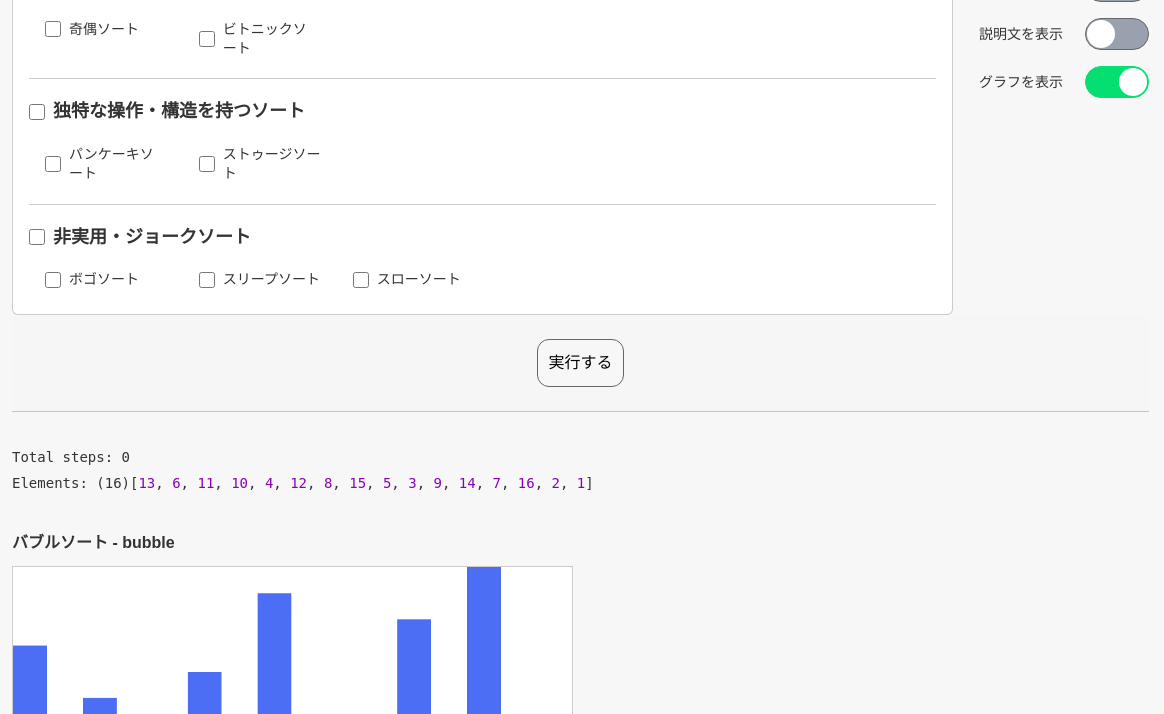
Test: SortVisualizerContent › 終了後にもう一度実行すると「処理中...」ではなく「処理を強制終了する」になる
(page scrolled)
Click the button "実行する": (580, 362) [538,338,624,386]
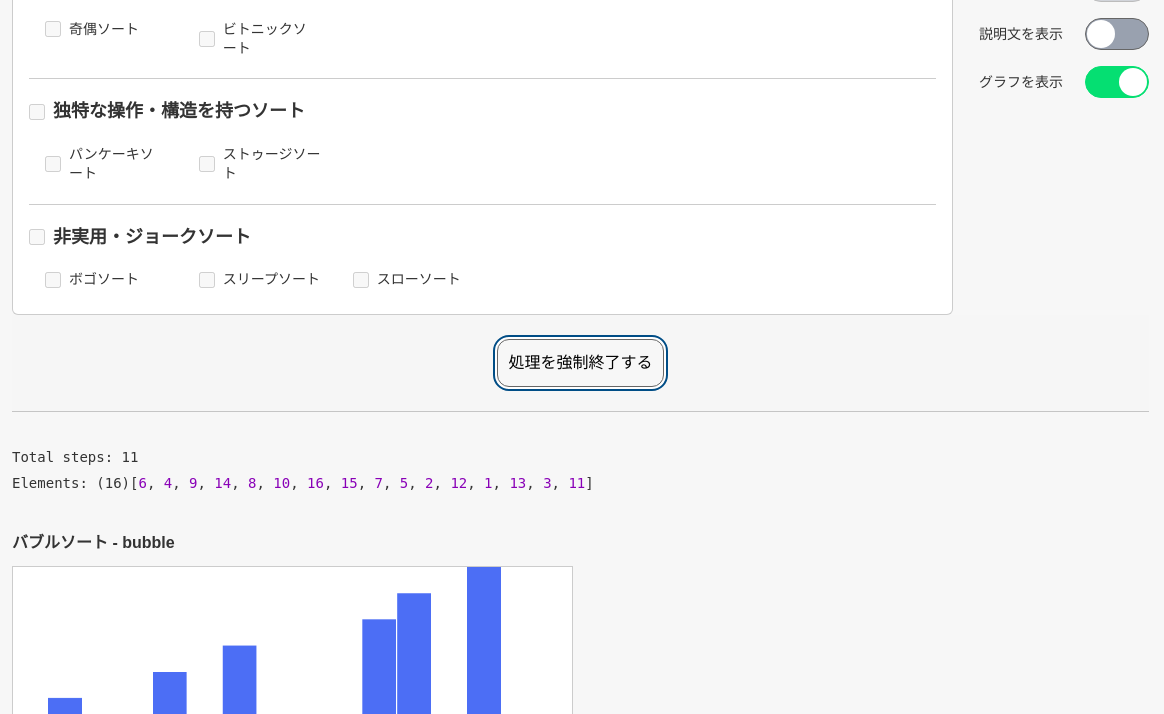
Click the button "処理を強制終了する": (580, 362) [498,338,664,386]
Wait 1000 ms
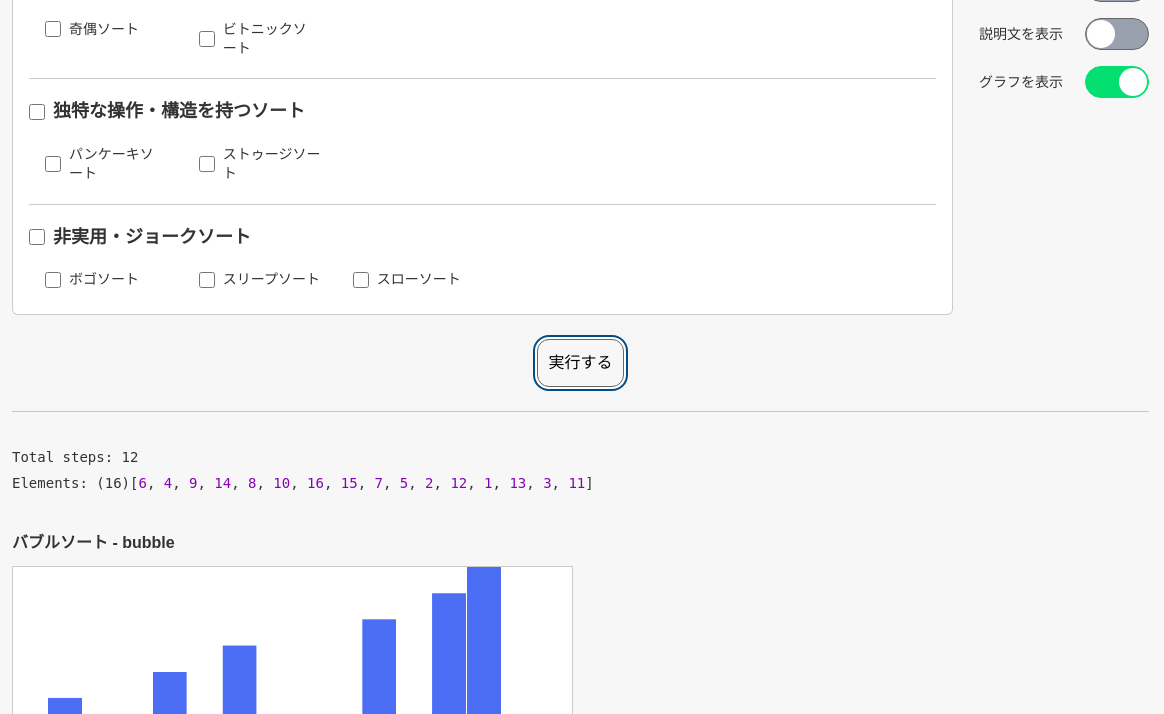
Click the button "実行する": (580, 362) [538,338,624,386]
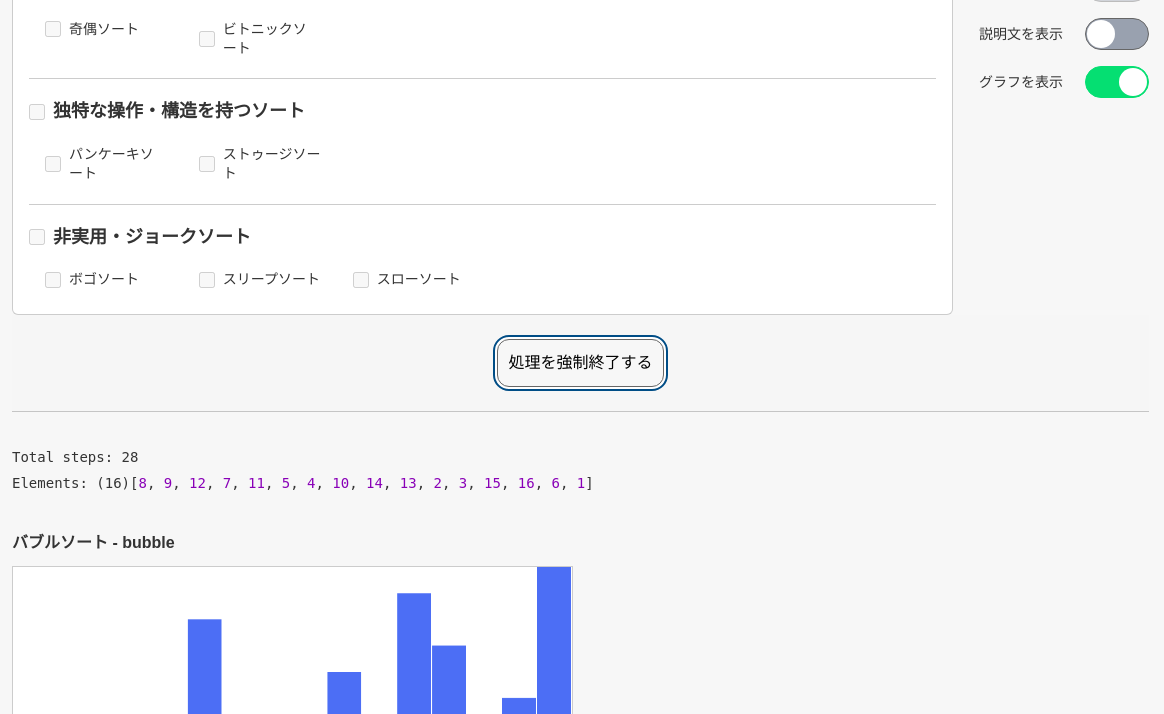
Now the button "処理を強制終了する" is shown, box [498,338,664,386]
